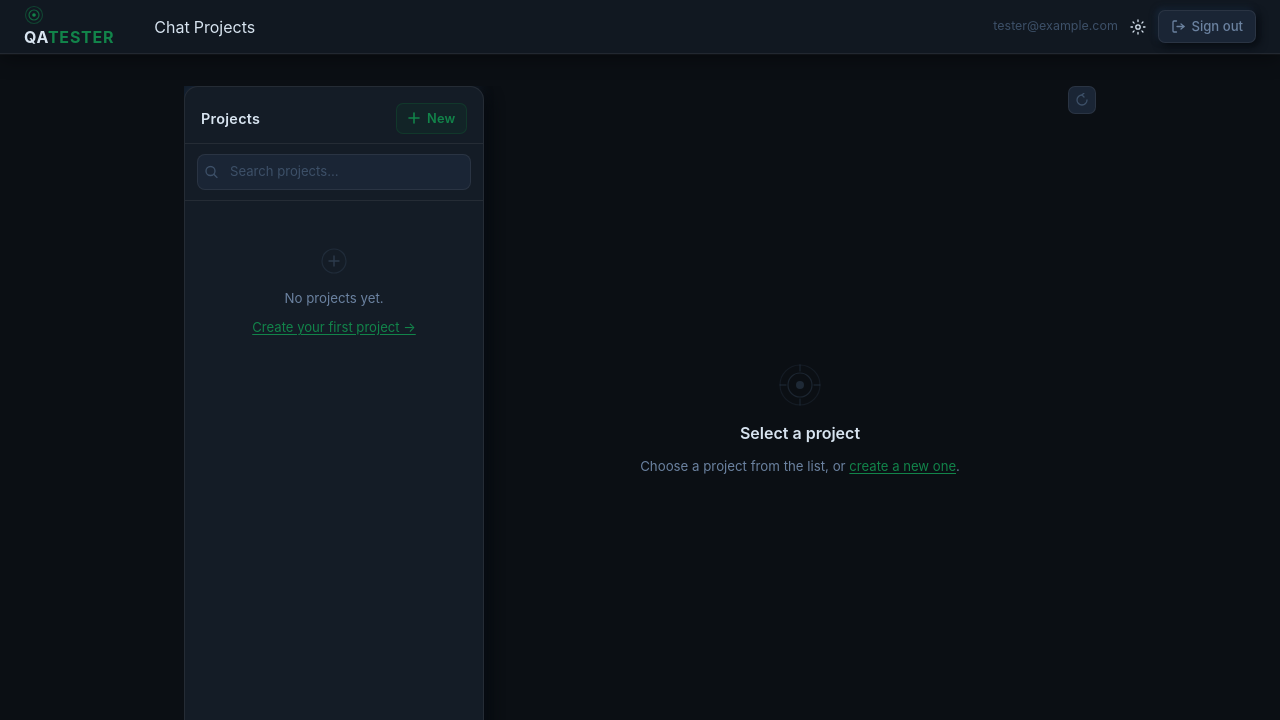
Test: Create project with a valid URL › shows a server error alert when projectsCreate returns an error
The image size is (1280, 720).
Expected: the text "No projects yet." is shown, left=284, top=289, right=384, bottom=308
Click the button with aria-label "create new project".
click(432, 118)  # box left=396, top=103, right=467, bottom=134
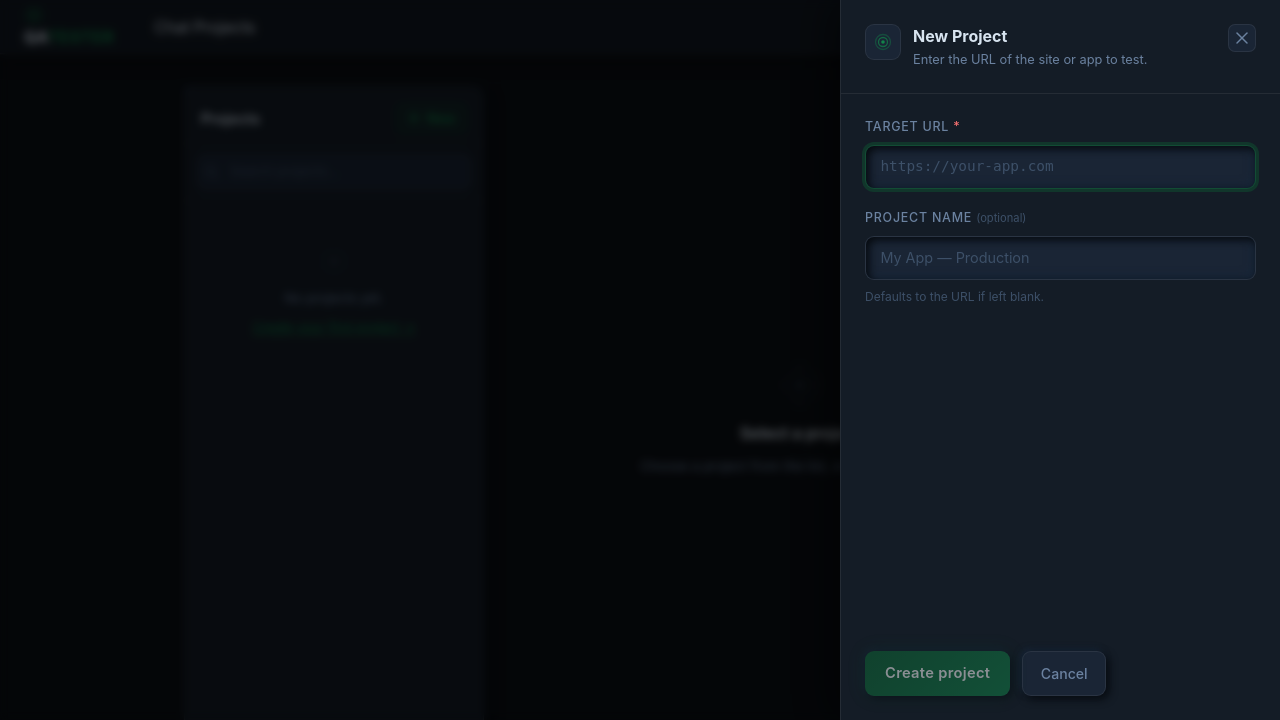
Type "https://example.com" into the field labelled "Target URL *".
click(1060, 167); type("https://example.com")  # box left=865, top=144, right=1256, bottom=189
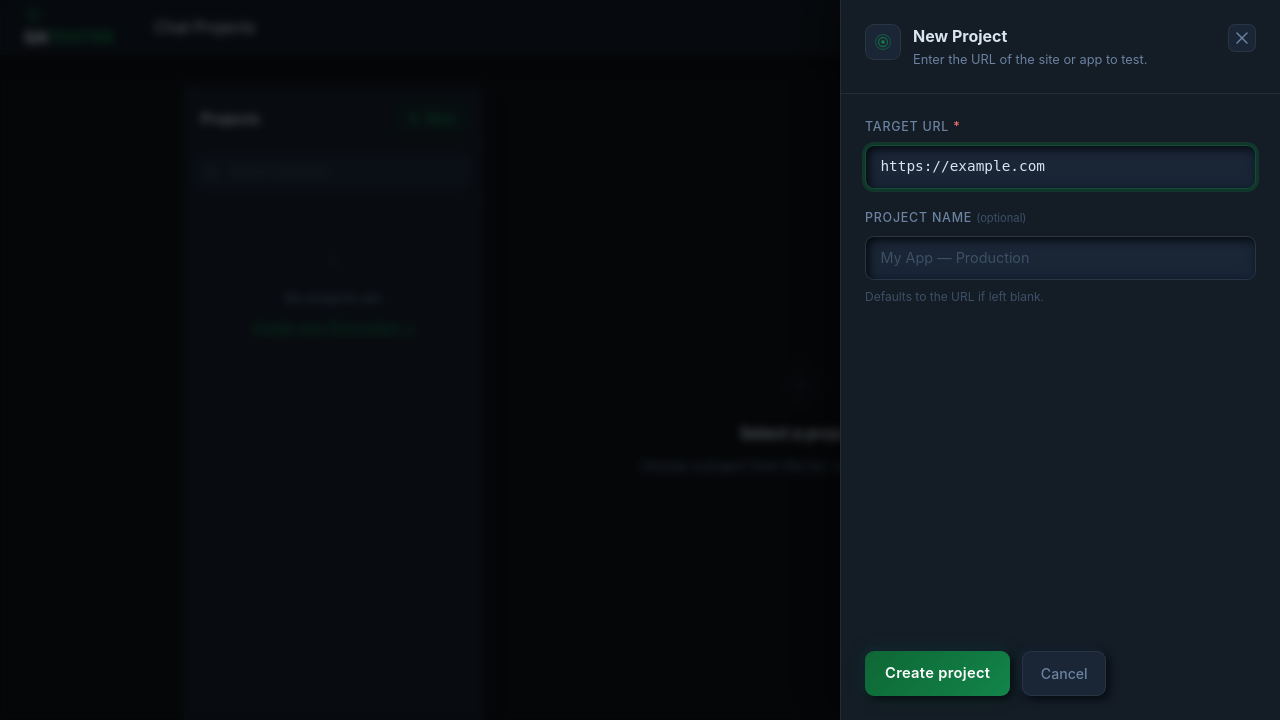
Click the button "Create project".
click(938, 673)  # box left=865, top=650, right=1010, bottom=696
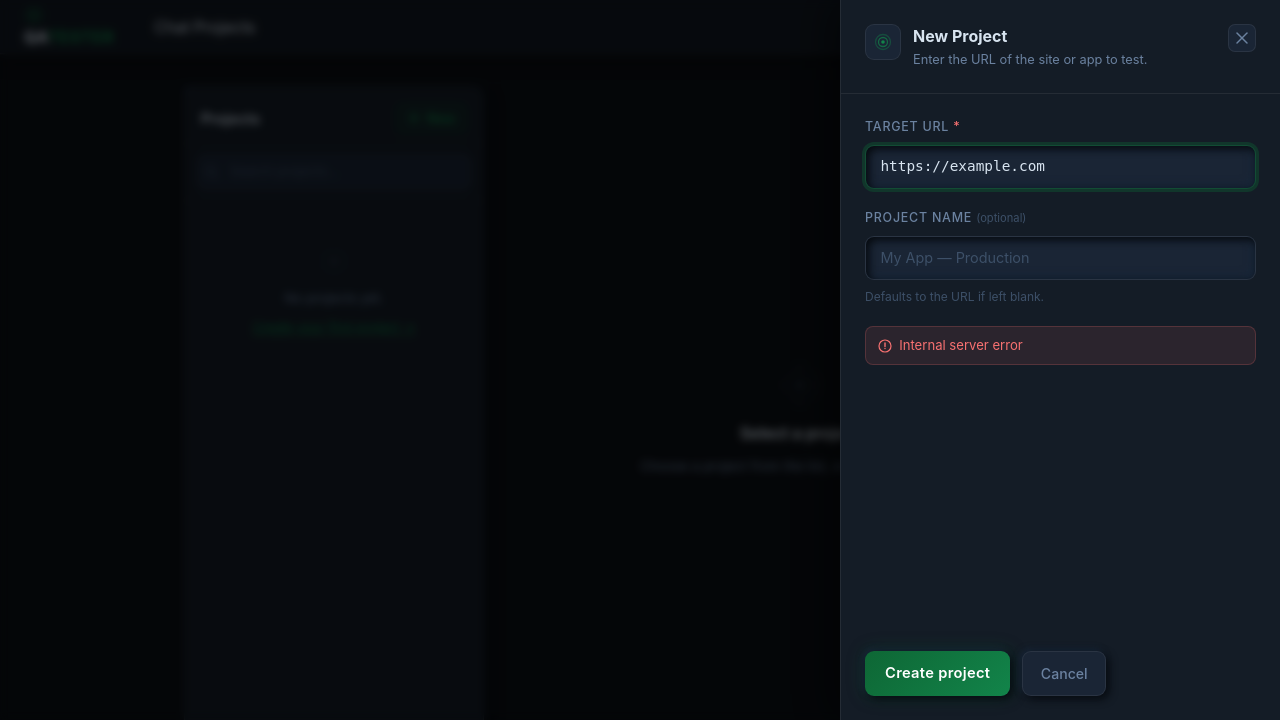
Now the dialog named "create project" is shown
Now the message reads "Internal server error", box left=899, top=337, right=1023, bottom=353
